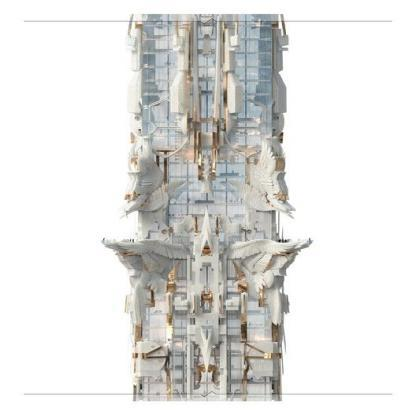Building Outline: (101, 22, 314, 394)
Deco: (228, 239, 314, 325), (101, 238, 185, 324), (189, 206, 224, 373), (227, 139, 296, 219), (120, 143, 187, 220), (171, 27, 189, 136), (225, 28, 243, 136)
Facade: (98, 22, 316, 394)
Floor Slab: (143, 162, 272, 164), (143, 176, 272, 178), (143, 189, 272, 191), (143, 203, 272, 205), (143, 214, 272, 216), (143, 25, 271, 27), (143, 52, 271, 54), (143, 66, 271, 68), (142, 80, 270, 82), (143, 121, 271, 123), (142, 382, 270, 384), (142, 368, 270, 370), (142, 134, 270, 136), (142, 94, 270, 95), (142, 148, 270, 149), (142, 231, 270, 232), (142, 242, 270, 243), (142, 256, 270, 257), (142, 278, 270, 279), (142, 314, 270, 315), (142, 328, 270, 329), (142, 336, 270, 337), (142, 355, 270, 356), (143, 39, 271, 40)
Glass Wall: (142, 22, 273, 393)
